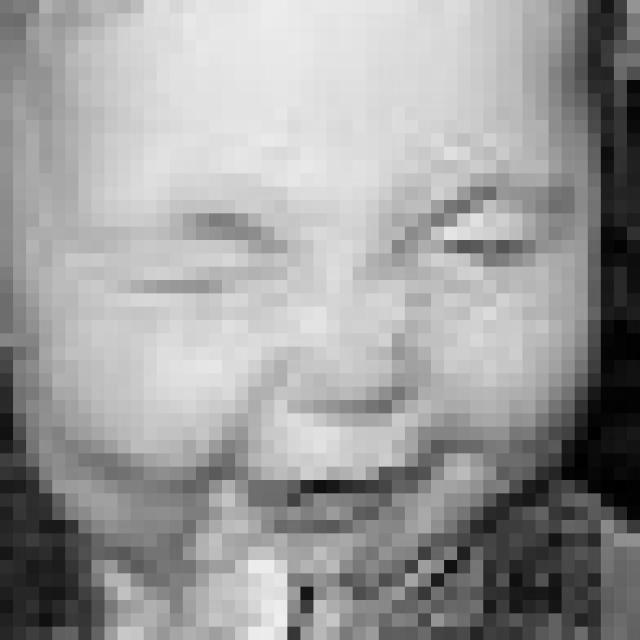real: (0, 0, 601, 573), (80, 194, 558, 296)
